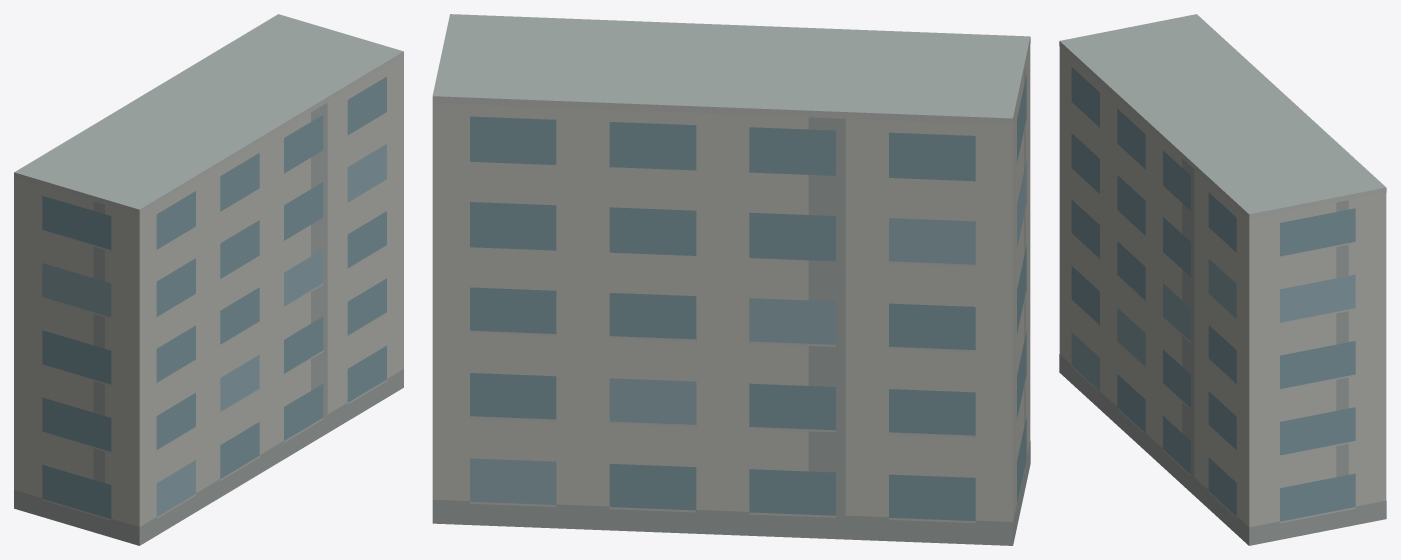
The model's file is residential-d1c3af16-c2c4-45a6-8490-5c186d37da70.glb.
3 renders of one model, left to right at view 1: azimuth 30°, elevation 25°; view 2: azimuth 150°, elevation 25°; view 3: azimuth 270°, elevation 25°, orthographic. The views are drawn at different scales.
Visible parts, largest first — view 1: residential-d1c3af16-c2c4-45a6-8490-5c186d37da70.tmp; view 2: residential-d1c3af16-c2c4-45a6-8490-5c186d37da70.tmp; view 3: residential-d1c3af16-c2c4-45a6-8490-5c186d37da70.tmp.
Boxes of the visible parts, <box> form: residential-d1c3af16-c2c4-45a6-8490-5c186d37da70.tmp: <box>14,14,403,545</box>; residential-d1c3af16-c2c4-45a6-8490-5c186d37da70.tmp: <box>432,14,1030,545</box>; residential-d1c3af16-c2c4-45a6-8490-5c186d37da70.tmp: <box>1059,14,1386,545</box>.
Size of the model in its own units: 19.77 by 15.25 by 13.64.
